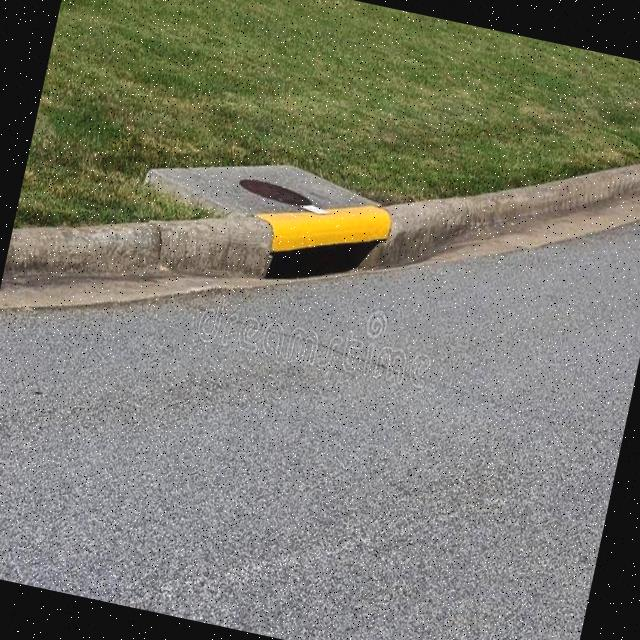curb: (1, 163, 274, 348), (428, 96, 640, 305), (235, 177, 469, 327)
